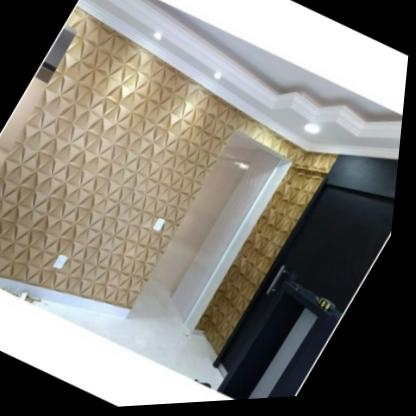Futech tiles: (0, 43, 240, 315)
